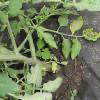Tomato Septoria leaf spot: (69, 14, 84, 36), (82, 28, 99, 43)
